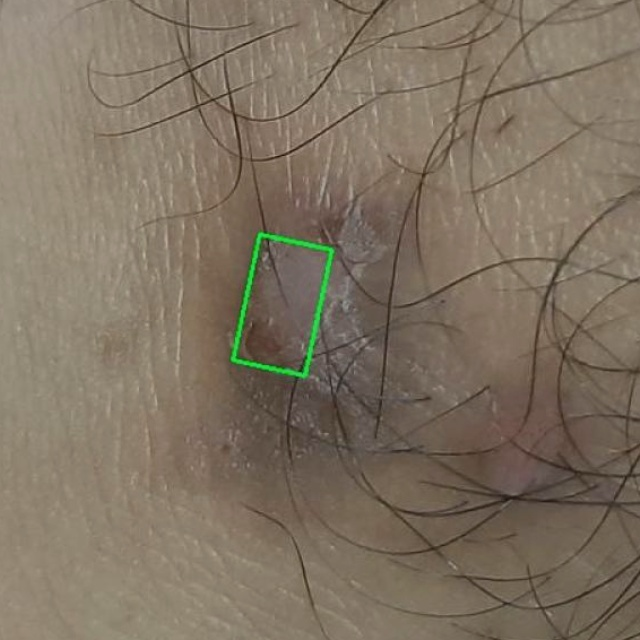Eczema: (233, 234, 332, 376)
